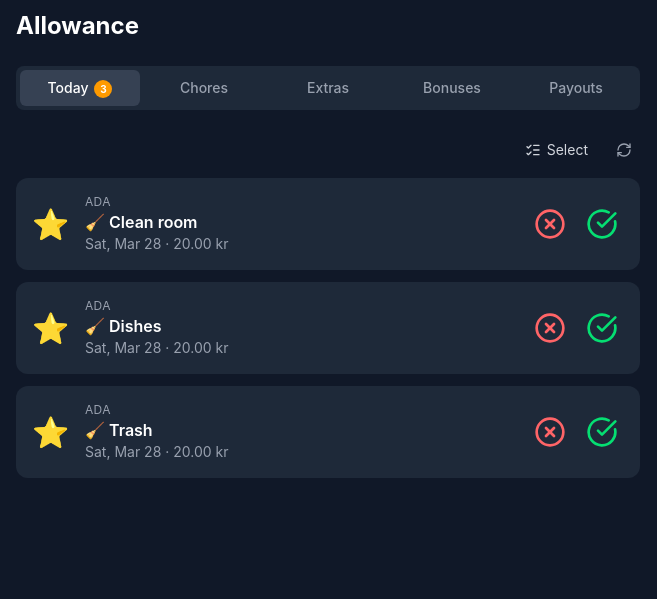
Test: AllowancePage bulk approval › select-all toggles every listed pending row
The width and height of the screenshot is (657, 599).
Expected: the text "🧹 Clean room" is shown, [85, 212, 198, 232]
Click the button "Select": (556, 150) [513, 134, 600, 166]
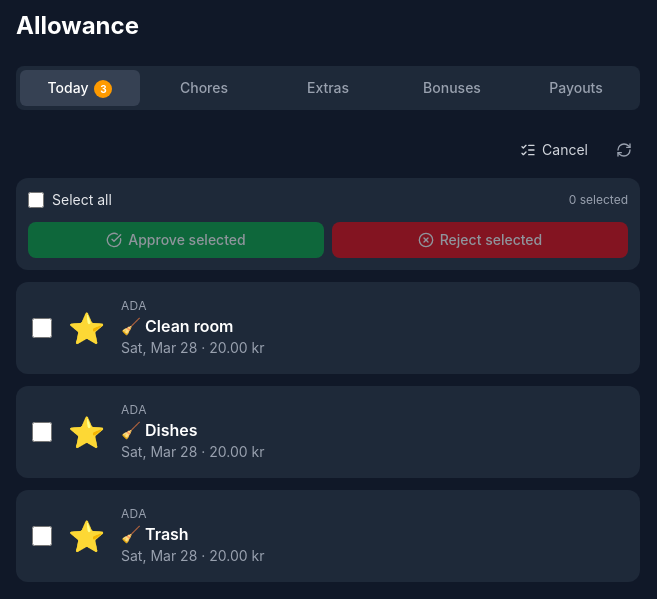
Click the checkbox labelled "Select all": (36, 200) [28, 192, 44, 208]
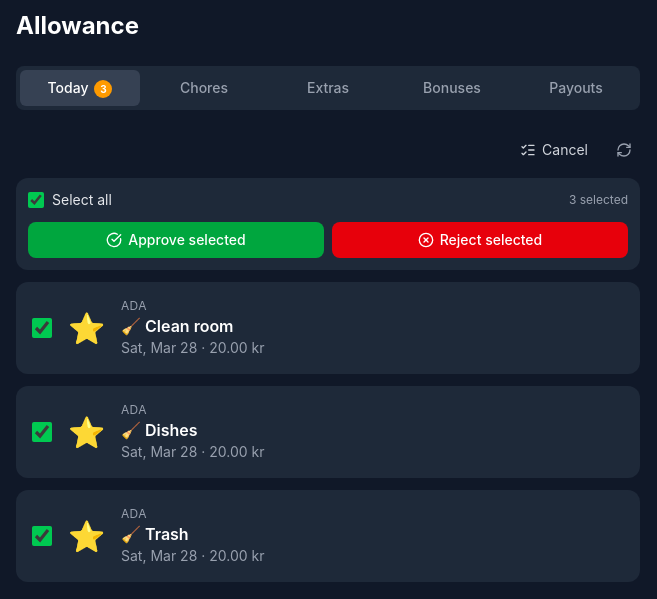
Result: the text "3 selected" is shown at [569, 192, 628, 208]
Click the checkbox labelled "Select all": (36, 200) [28, 192, 44, 208]
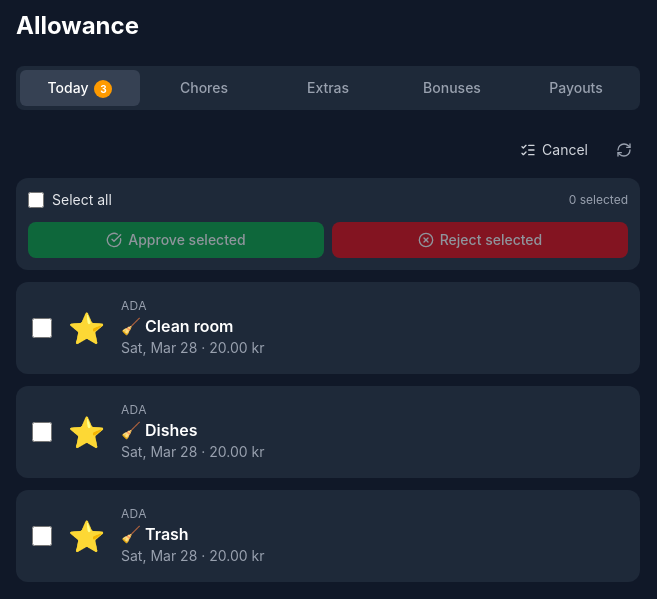
Result: the text "0 selected" is shown at [569, 192, 628, 208]
